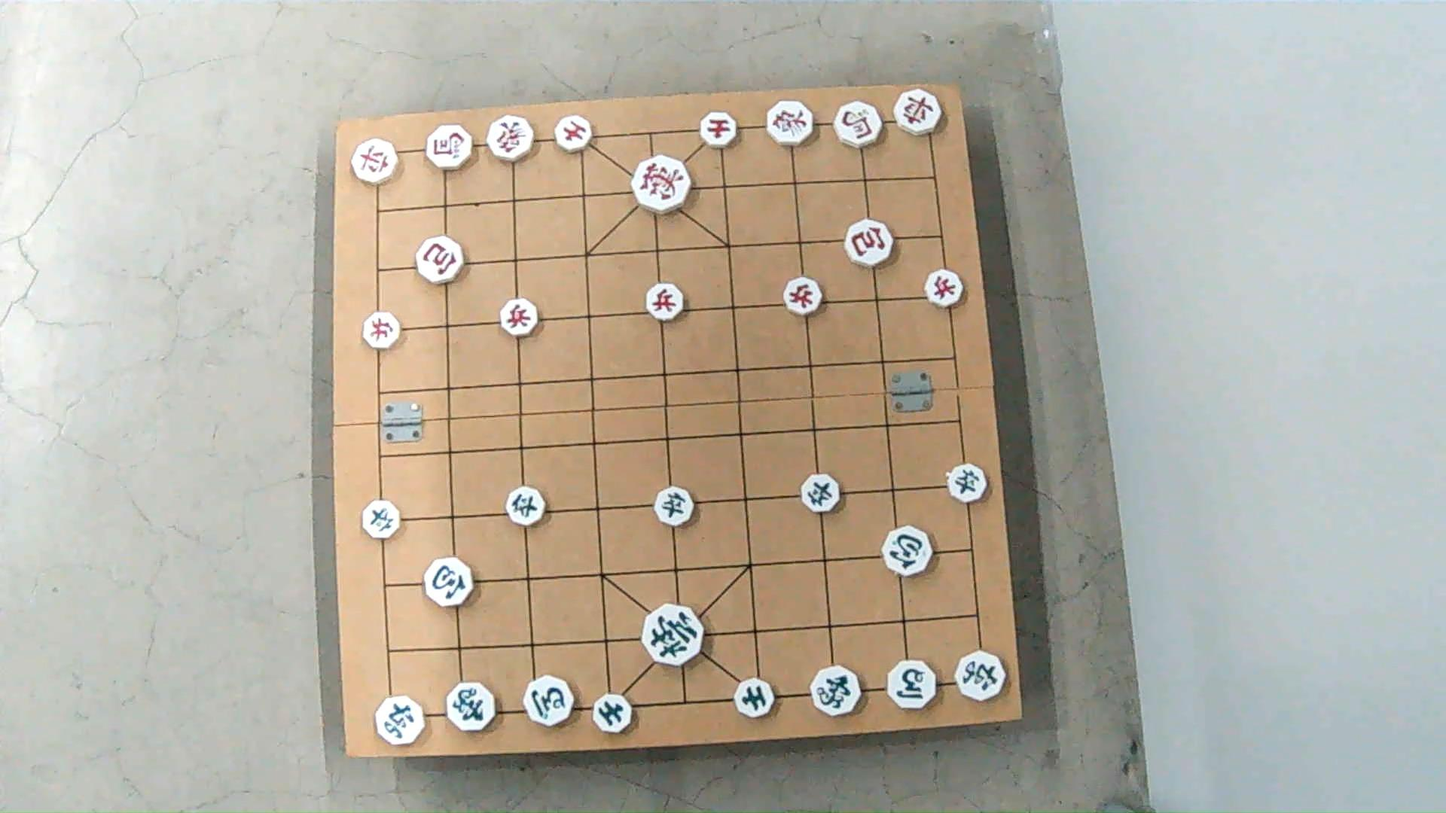cha_green: (952, 647, 1007, 702), (375, 699, 428, 745)
cha_red: (895, 90, 946, 134), (354, 143, 404, 182)
jol_green: (650, 483, 695, 525), (945, 461, 991, 501), (360, 500, 404, 539), (505, 486, 549, 525), (799, 473, 846, 509)
jol_red: (498, 301, 540, 336), (645, 285, 686, 320), (781, 279, 824, 312), (922, 273, 965, 306), (364, 314, 405, 347)
ma_green: (524, 680, 577, 727), (885, 662, 938, 708)
ma_red: (831, 102, 884, 146), (429, 126, 478, 172)
po_green: (882, 530, 935, 575), (424, 562, 476, 606)
po_red: (844, 222, 895, 265), (412, 240, 462, 283)
sa_green: (733, 679, 775, 716), (593, 696, 633, 733)
sa_red: (699, 115, 740, 148), (554, 118, 594, 151)
sang_green: (809, 668, 867, 717), (444, 681, 496, 733)
sang_red: (484, 117, 535, 161), (766, 104, 816, 146)
wang_green: (642, 607, 706, 664)
wang_red: (631, 160, 692, 212)
